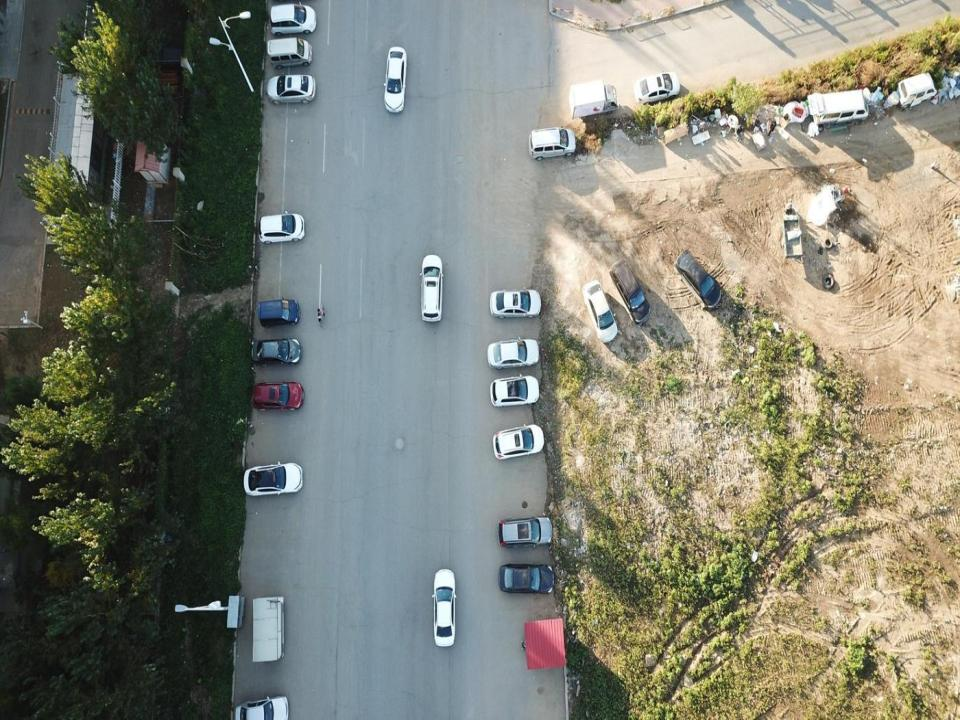car: (677, 248, 722, 310), (582, 282, 619, 344), (243, 463, 302, 498), (432, 569, 457, 648), (494, 423, 542, 462), (252, 378, 303, 411), (490, 374, 538, 409), (497, 517, 552, 547), (487, 336, 538, 368), (490, 287, 541, 319), (500, 566, 554, 596), (633, 70, 679, 104), (260, 213, 305, 247), (422, 253, 444, 322), (384, 46, 407, 112), (252, 338, 302, 368), (267, 76, 317, 104), (235, 695, 290, 719), (259, 299, 299, 331)
truck: (569, 81, 618, 118)
van: (610, 260, 651, 324), (810, 91, 869, 125), (528, 125, 577, 160), (899, 72, 940, 111), (268, 38, 313, 70), (269, 6, 317, 34)
